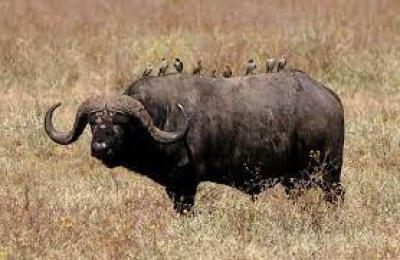buffalo: (45, 59, 343, 212)
